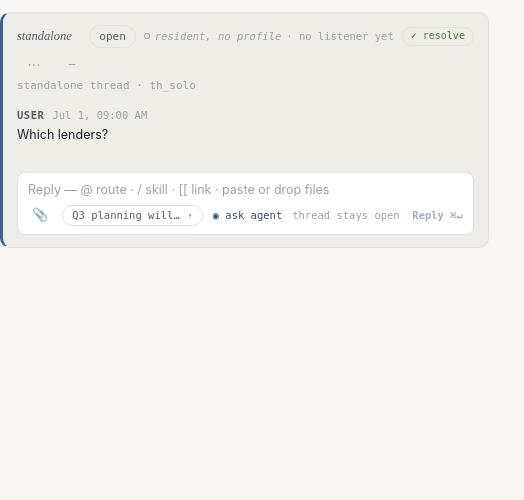
Scenario: choosing what the resident runs at › opens showing the level the resident already runs at
The image size is (524, 500).
Expected: the element with class "t-resident" is shown, [144, 29, 394, 44]
Right-click the element with class "thread-card" at coordinates (244, 130), box [0, 12, 489, 248]
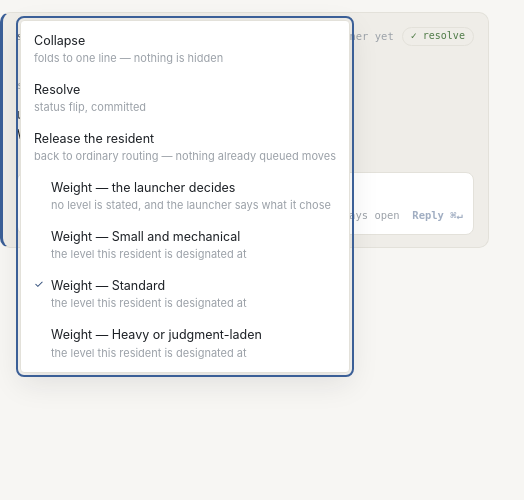
Click the menu item that starts with "Weight — the launcher decides". click: coordinates (185, 197)
box: [25, 172, 345, 221]
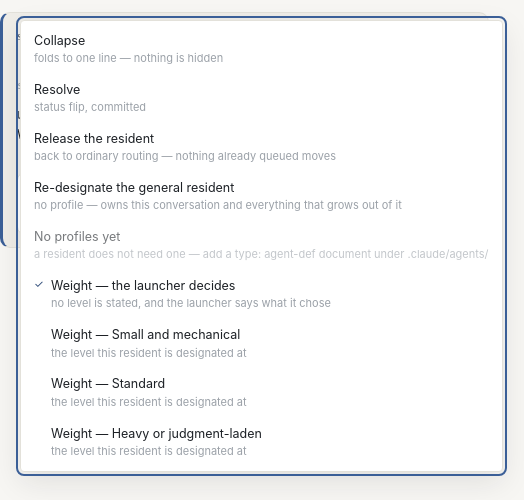
Expected: the menu item that starts with "Re-designate the general resident" is shown, [25, 172, 498, 221]
